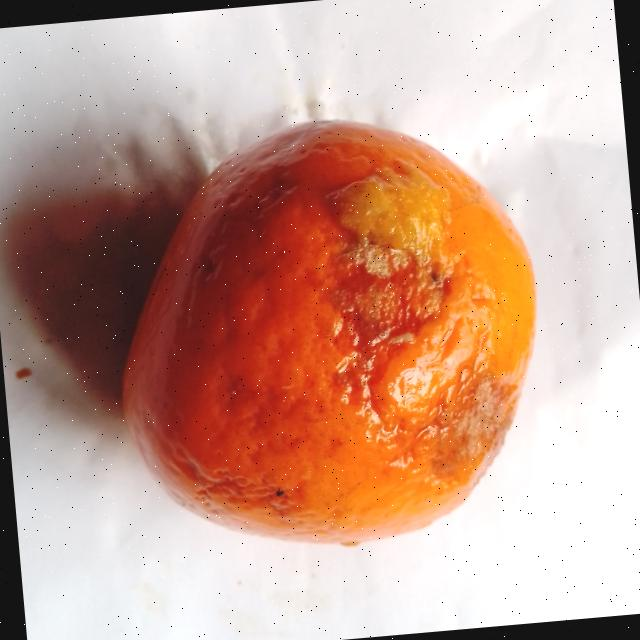Rotten: (98, 106, 560, 564)
